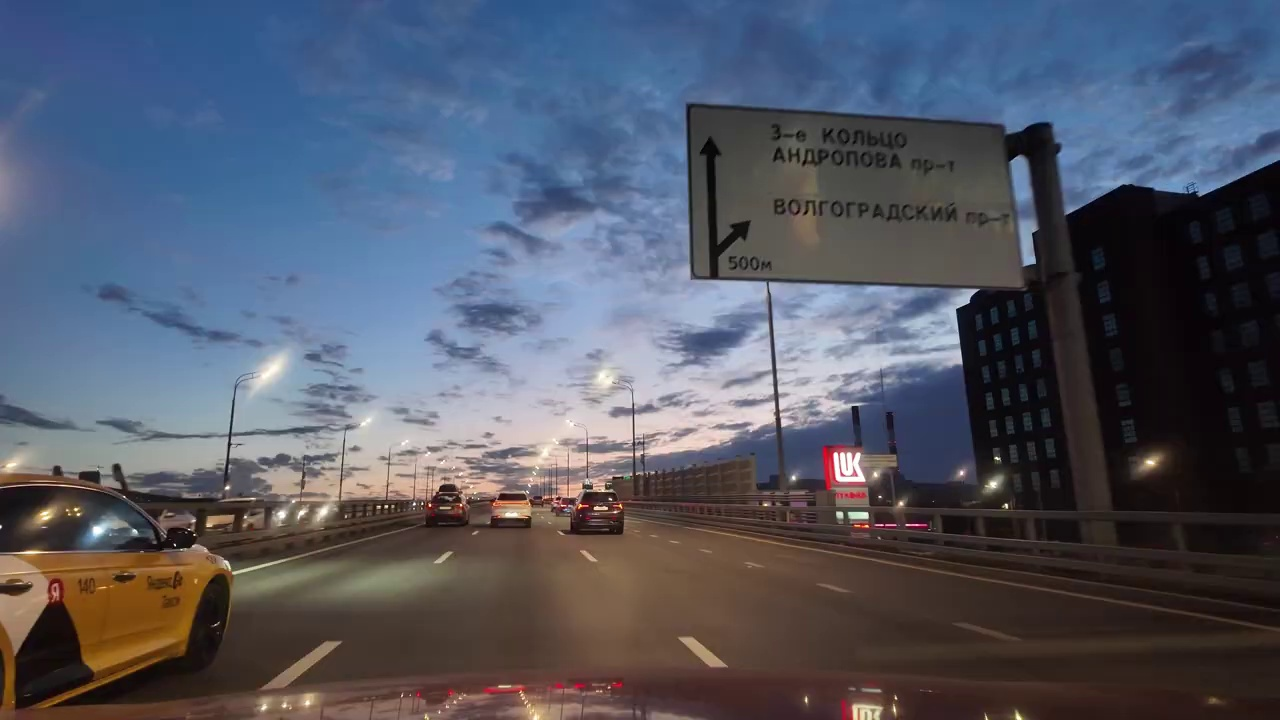acesa: (252, 354, 285, 393), (591, 365, 616, 394)
